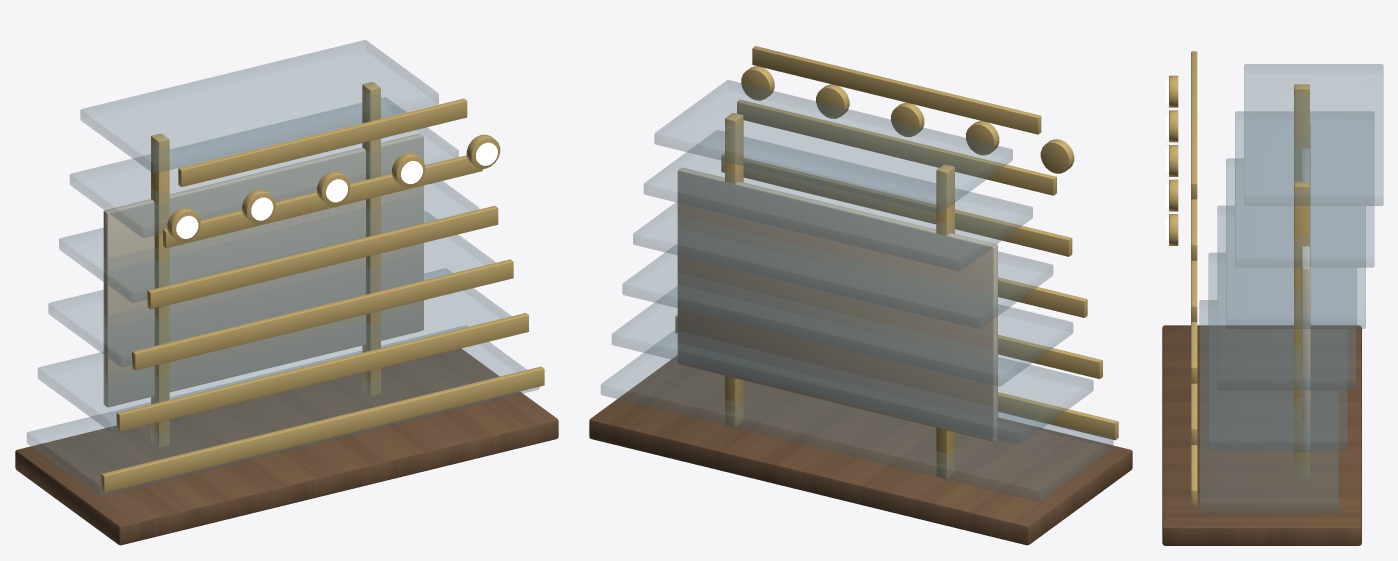
Rendered from pf_display_checkout_display_t5.glb.
3 renders of one model, left to right at view 1: azimuth 30°, elevation 25°; view 2: azimuth 150°, elevation 25°; view 3: azimuth 270°, elevation 25°, orthographic. The views are drawn at different scales.
Visible parts, largest first — view 1: Counter_Display_Base, Checkout_Back_Panel, Riser_06, Riser_01, Riser_05, Riser_02, Riser_03, Riser_04, Riser_Lip_01, Riser_Lip_02, Riser_Lip_03, Riser_Lip_04 (+4 smaller); view 2: Checkout_Back_Panel, Counter_Display_Base, Riser_01, Riser_05, Riser_06, Riser_02, Riser_03, Riser_04, Riser_Lip_05, Riser_Lip_04, Riser_Lip_06, Riser_Lip_01 (+9 smaller); view 3: Counter_Display_Base, Riser_05, Riser_06, Riser_01, Riser_02, Riser_03, Riser_04, Riser_Support_02, Checkout_Back_Panel, Riser_Support_01, Riser_Lip_06, Riser_Lip_02 (+9 smaller).
Boxes of the visible parts, bbox=[...] form: Counter_Display_Base: bbox=[15, 348, 558, 545]; Checkout_Back_Panel: bbox=[103, 133, 423, 407]; Riser_06: bbox=[80, 40, 438, 173]; Riser_01: bbox=[27, 325, 539, 496]; Riser_05: bbox=[70, 97, 458, 237]; Riser_02: bbox=[38, 268, 510, 431]; Riser_03: bbox=[48, 211, 495, 366]; Riser_04: bbox=[59, 181, 478, 302]; Riser_Lip_01: bbox=[101, 366, 544, 492]; Riser_Lip_02: bbox=[116, 313, 528, 431]; Riser_Lip_03: bbox=[132, 259, 513, 370]; Riser_Lip_04: bbox=[147, 205, 498, 309]; Checkout_Back_Panel: bbox=[677, 167, 997, 441]; Counter_Display_Base: bbox=[589, 355, 1132, 545]; Riser_01: bbox=[601, 331, 1113, 501]; Riser_05: bbox=[644, 130, 1032, 270]; Riser_06: bbox=[654, 80, 1012, 213]; Riser_02: bbox=[612, 286, 1093, 443]; Riser_03: bbox=[622, 244, 1072, 386]; Riser_04: bbox=[633, 202, 1052, 328]; Riser_Lip_05: bbox=[737, 99, 1056, 195]; Riser_Lip_04: bbox=[721, 153, 1072, 256]; Riser_Lip_06: bbox=[752, 46, 1041, 134]; Riser_Lip_01: bbox=[675, 315, 1118, 440]; Counter_Display_Base: bbox=[1162, 325, 1361, 545]; Riser_05: bbox=[1235, 111, 1374, 267]; Riser_06: bbox=[1244, 64, 1383, 205]; Riser_01: bbox=[1199, 300, 1338, 512]; Riser_02: bbox=[1208, 253, 1347, 451]; Riser_03: bbox=[1217, 206, 1356, 389]; Riser_04: bbox=[1226, 158, 1365, 328]; Riser_Support_02: bbox=[1294, 181, 1309, 476]; Checkout_Back_Panel: bbox=[1301, 124, 1310, 451]; Riser_Support_01: bbox=[1294, 84, 1309, 182]; Riser_Lip_06: bbox=[1191, 51, 1197, 199]; Riser_Lip_02: bbox=[1191, 383, 1197, 444].
Size of the model in its own units: 1.35 by 1.02 by 0.621.
Materials: 6 (1 with a texture image).
